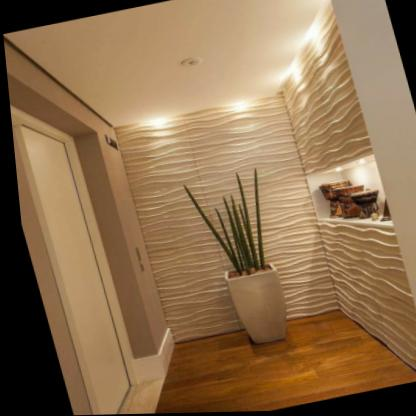Wall Panel: (111, 91, 334, 345), (276, 0, 416, 369)
Wooden floor: (145, 313, 415, 414)
